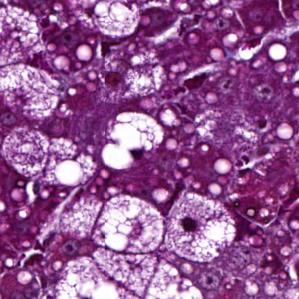ballooning: (161, 190, 238, 265), (88, 193, 167, 256), (101, 110, 165, 173), (88, 1, 144, 41)
